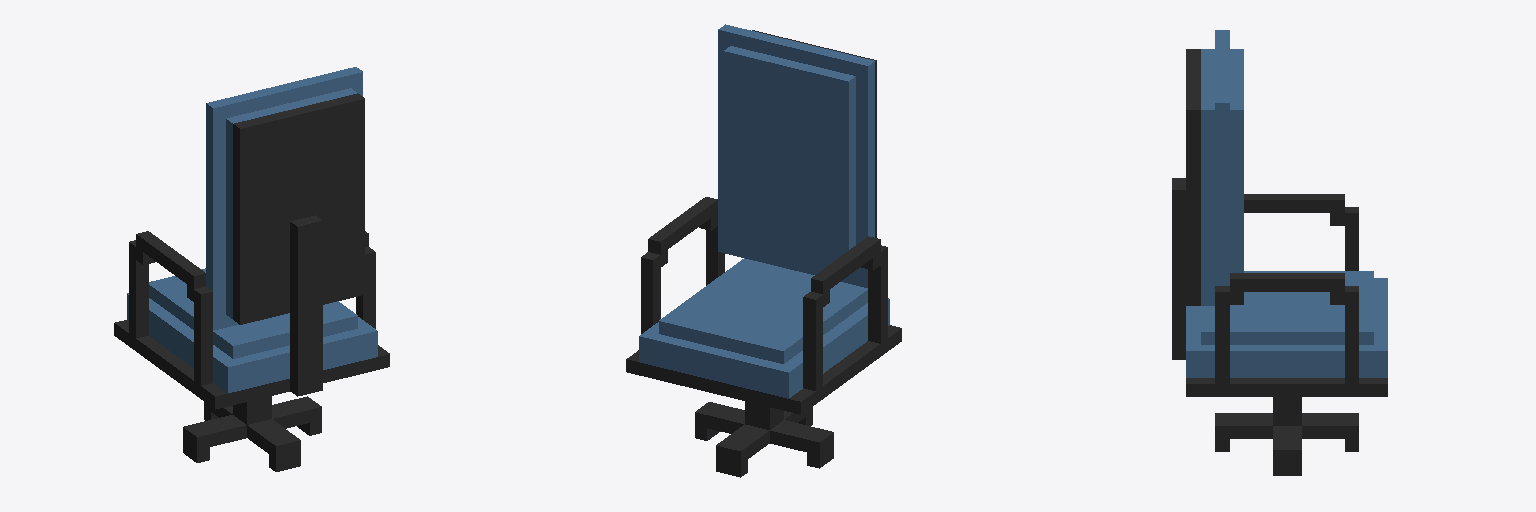
3 renders of one model, left to right at view 1: azimuth 30°, elevation 25°; view 2: azimuth 150°, elevation 25°; view 3: azimuth 270°, elevation 25°, orthographic.
Visible parts, largest first — view 1: chair; view 2: chair; view 3: chair.
Boxes of the visible parts, box(x1,y1,x2,y2) form: chair: box(114, 67, 389, 471); chair: box(626, 24, 901, 477); chair: box(1172, 30, 1387, 475).
Bounding box in the file's own units: 1.4 × 2.9 × 1.5.
1 materials, 1 textured.